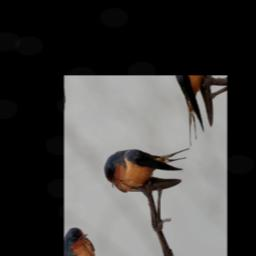Swallow: (98, 99, 196, 230)
